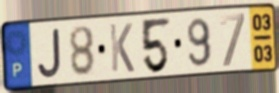5: (139, 16, 172, 75)
7: (219, 12, 246, 68)
8: (67, 25, 97, 78)
9: (186, 15, 214, 69)
J: (36, 26, 63, 80)
K: (108, 22, 136, 74)
